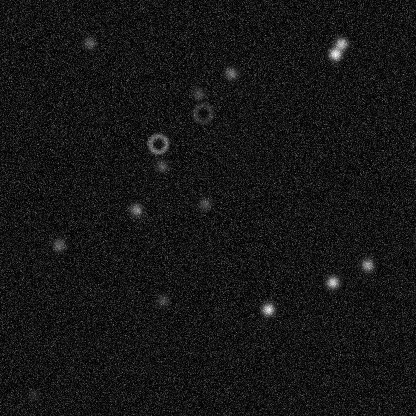Ring: (146, 131, 170, 155), (190, 101, 214, 125)
Spot: (223, 65, 239, 81), (153, 157, 169, 173), (154, 292, 170, 308), (50, 236, 66, 252), (333, 35, 349, 51), (25, 386, 41, 402), (81, 34, 97, 50), (359, 256, 375, 272), (324, 274, 340, 290), (327, 45, 343, 61), (196, 195, 212, 211), (190, 85, 206, 101), (128, 201, 144, 217), (260, 301, 276, 317)
